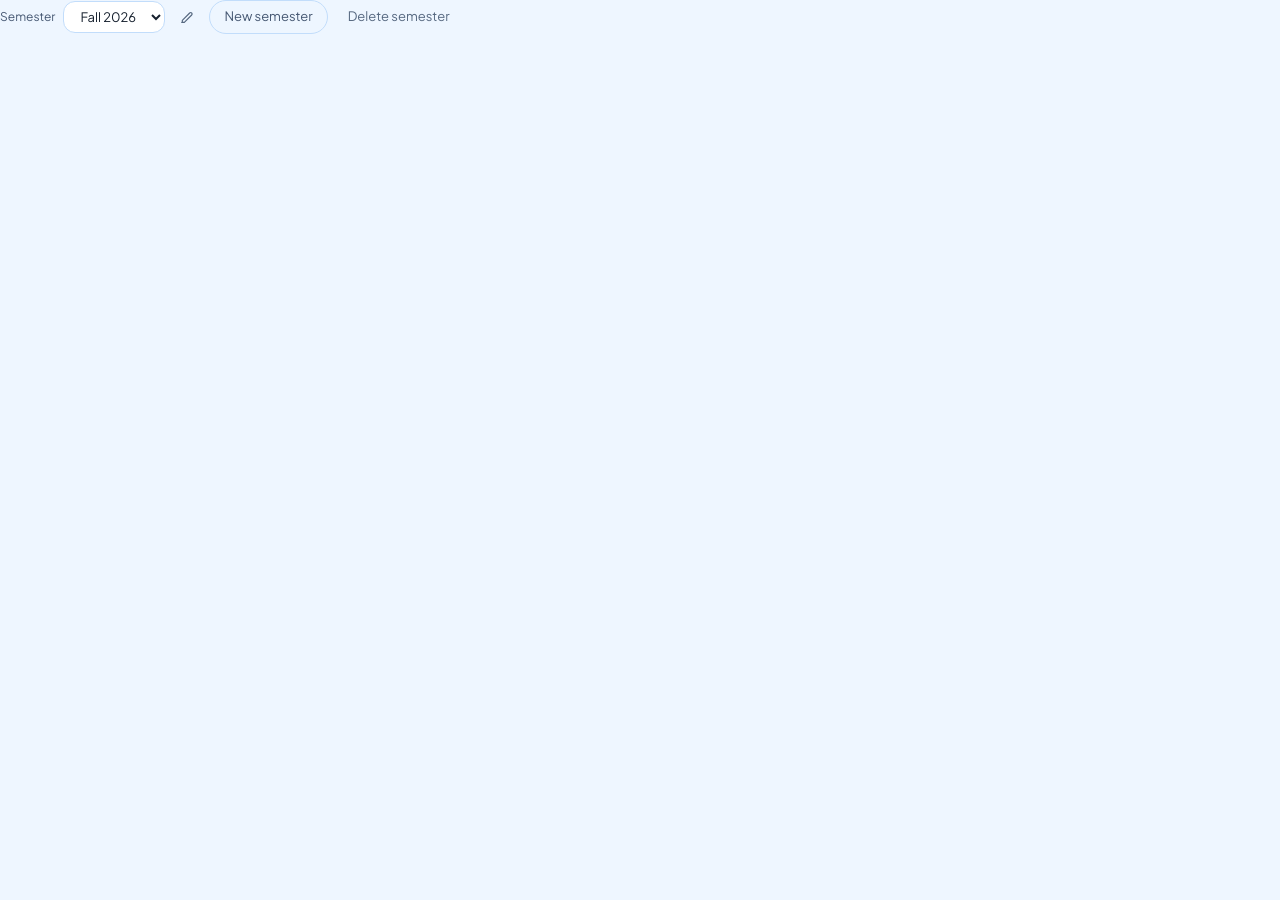
Scenario: the semester bar › asks before deleting the one that is open
Click the button "Delete semester" at (399, 17), box [336,1,462,32]
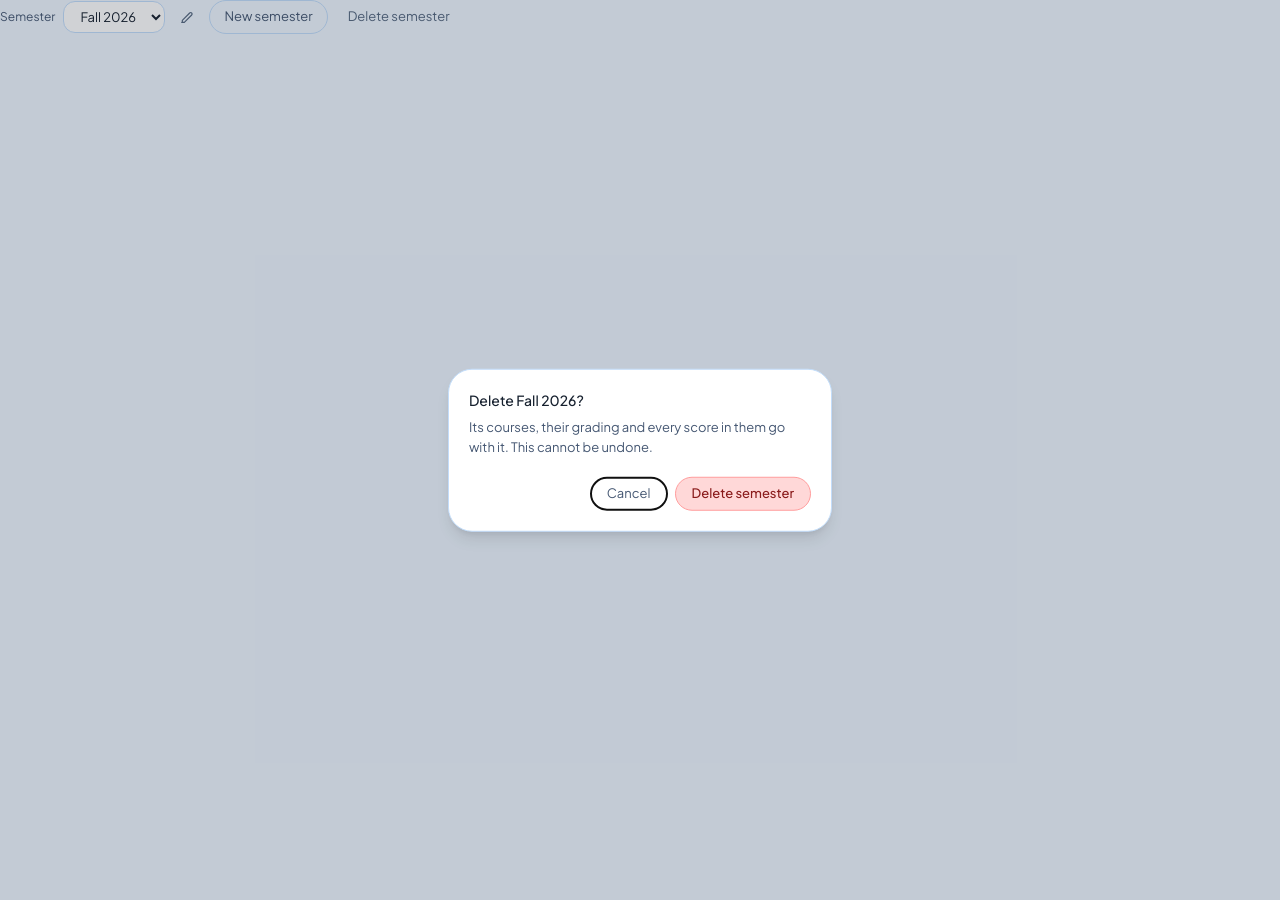
Expected: the dialog is shown, [448,369,832,531]
Expected: the heading "Delete Fall 2026?" is shown, [469,391,584,409]
